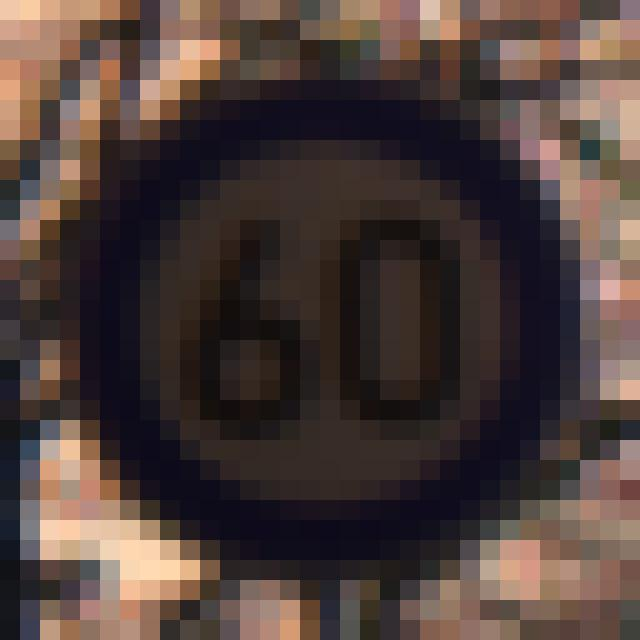SPEED-LIMIT-60: (68, 48, 604, 589)
